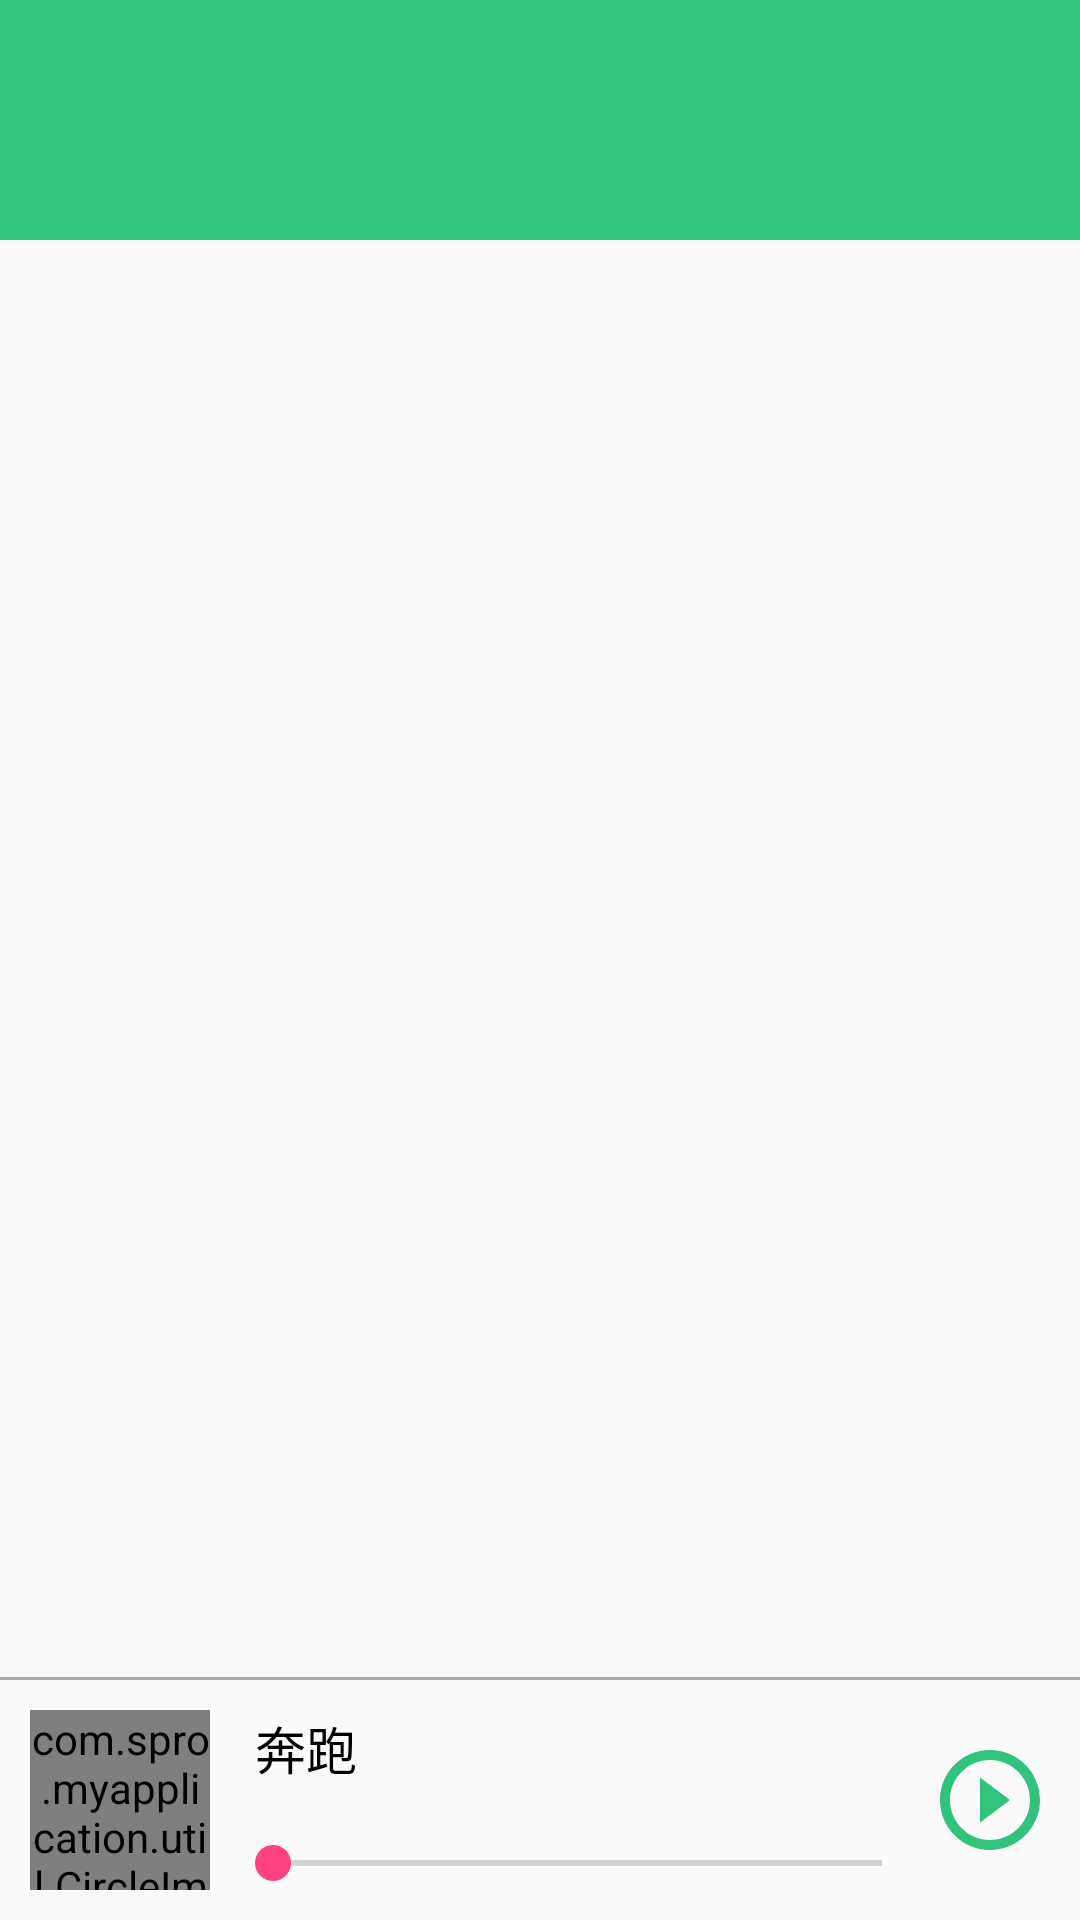

Where icons sit on this 1080px x 1920px app screen, as [x1, y1, x2, y2]:
play: [940, 1750, 1040, 1850]
